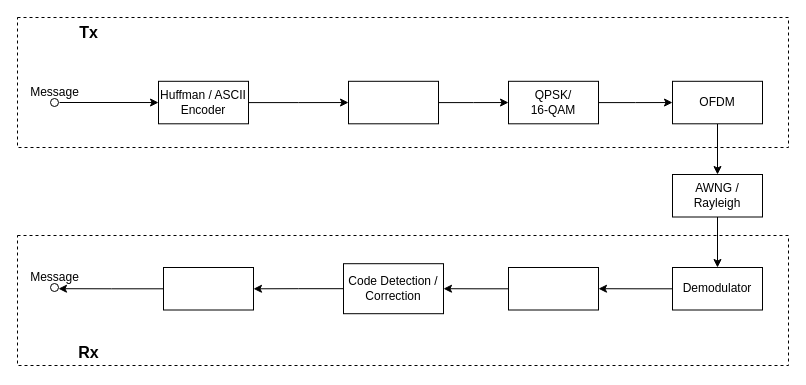
The diagram is 806 pixels wide and 385 high, and some of its shapes have lost their labels. The shapes that lost their labels are listed below. From the top down, each one's box as (x1, y1, x2, y2) in pixels, then its label:
(348, 80, 438, 124): Block Coding
(162, 266, 254, 310): Decoder
(508, 266, 598, 310): Demapper
